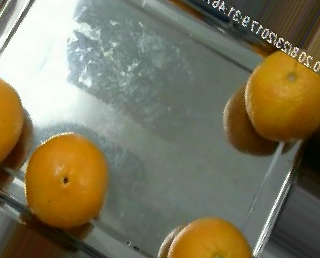Orange: (25, 130, 109, 227), (242, 49, 319, 141), (166, 216, 254, 258)
